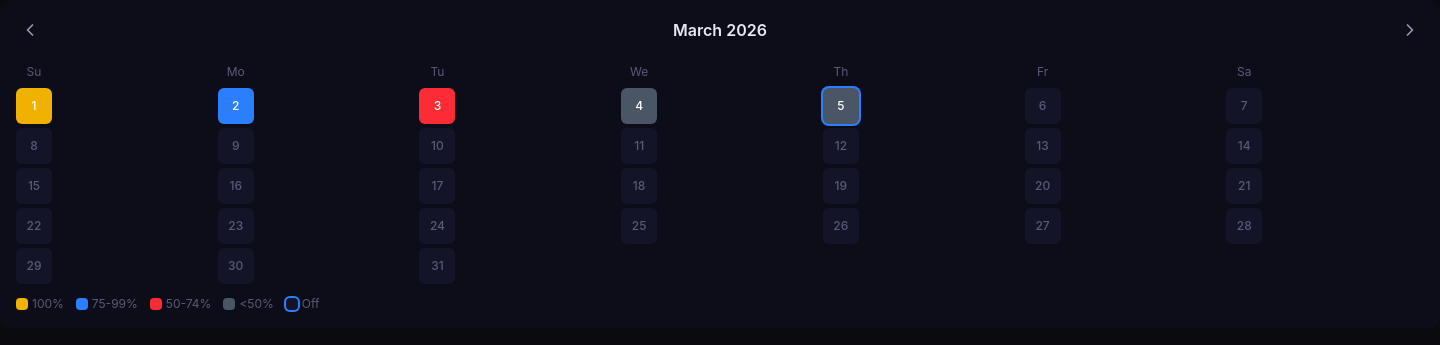
Test case: CalendarHeatmap › clicking same day toggles popover off
The width and height of the screenshot is (1440, 345).
Click the button named "Day 1, gold tier": coordinates (34, 106) [16,88,52,124]
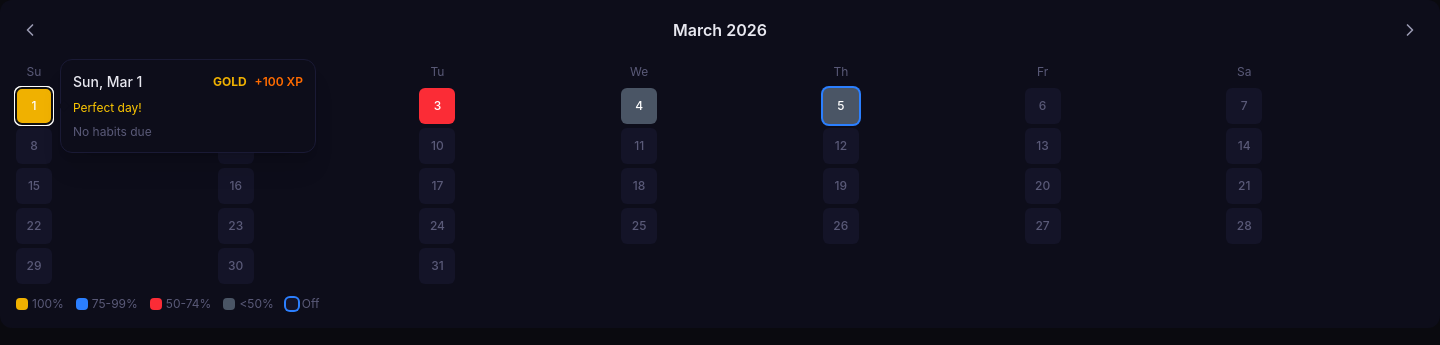
Result: the text "+100 XP" is shown at [255,74,303,90]
Click again to toggle off
Click the button named "Day 1, gold tier": coordinates (34, 106) [16,88,52,124]
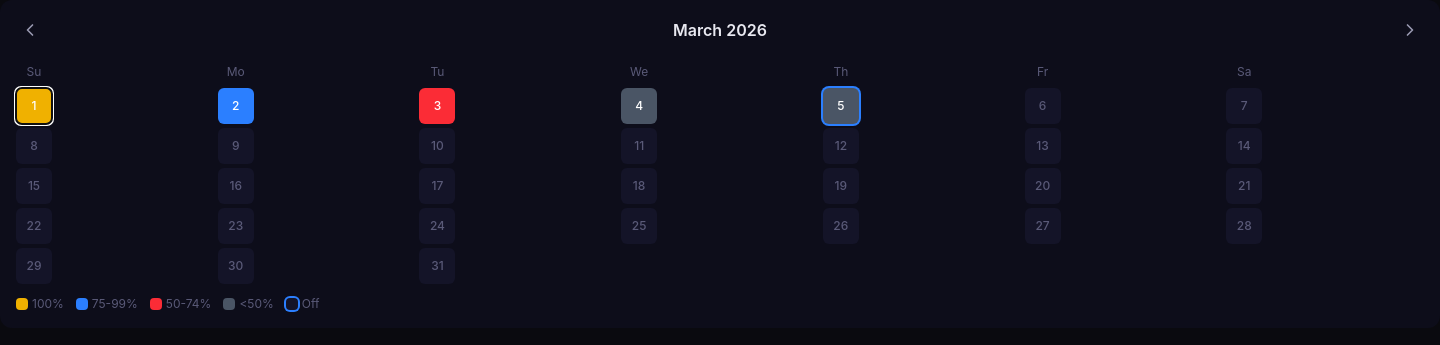
Result: the text "+100 XP" is gone
